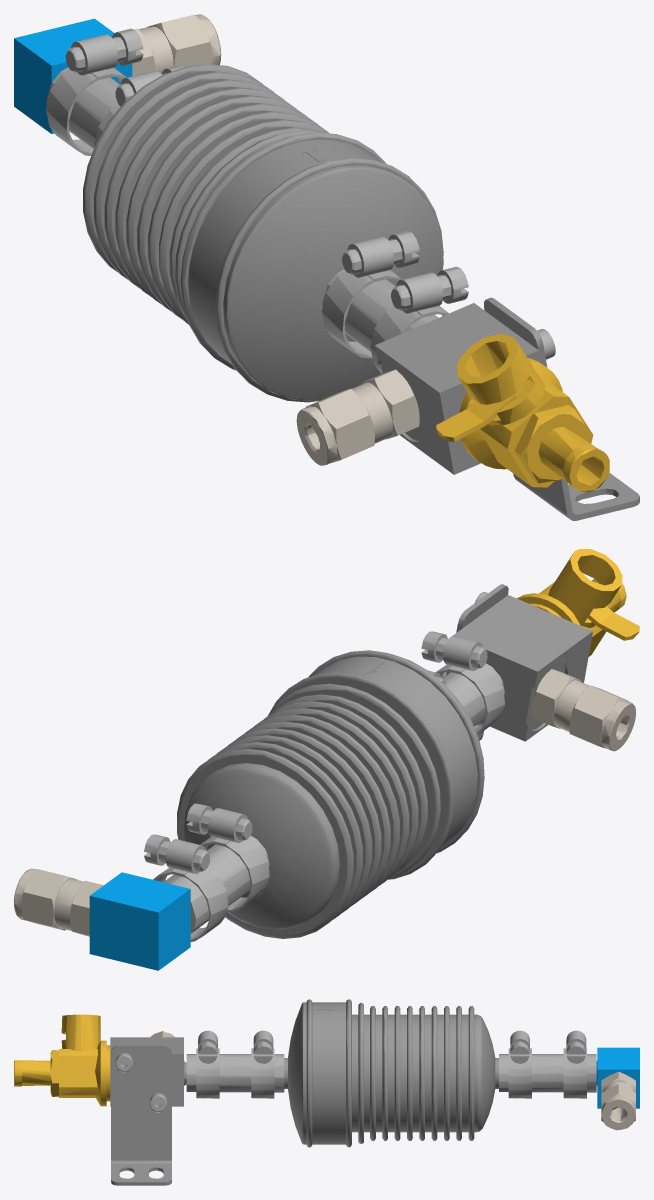
The model's file is oil traction filter assembly.glb.
3 renders of one model, top to bottom at view 1: azimuth 30°, elevation 25°; view 2: azimuth 150°, elevation 25°; view 3: azimuth 270°, elevation 25°, orthographic. The views are drawn at different scales.
Visible parts, largest first — view 1: __PrenotatoPerDuplicare_286, __PrenotatoPerDuplicare_290, __PrenotatoPerDuplicare_284, __PrenotatoPerDuplicare_285, __PrenotatoPerDuplicare_289, __PrenotatoPerDuplicare_281, __PrenotatoPerDuplicare_291, __PrenotatoPerDuplicare_294, __PrenotatoPerDuplicare_296, __PrenotatoPerDuplicare_287, __PrenotatoPerDuplicare_288, __PrenotatoPerDuplicare_295 (+6 smaller); view 2: __PrenotatoPerDuplicare_286, __PrenotatoPerDuplicare_284, __PrenotatoPerDuplicare_289, __PrenotatoPerDuplicare_290, __PrenotatoPerDuplicare_285, __PrenotatoPerDuplicare_291, __PrenotatoPerDuplicare_288, __PrenotatoPerDuplicare_293, __PrenotatoPerDuplicare_296, __PrenotatoPerDuplicare_295, __PrenotatoPerDuplicare_287, __PrenotatoPerDuplicare_568 (+6 smaller); view 3: __PrenotatoPerDuplicare_286, __PrenotatoPerDuplicare_281, __PrenotatoPerDuplicare_290, __PrenotatoPerDuplicare_287, __PrenotatoPerDuplicare_288, __PrenotatoPerDuplicare_291, __PrenotatoPerDuplicare_289, __PrenotatoPerDuplicare_284, __PrenotatoPerDuplicare_295, __PrenotatoPerDuplicare_293, __PrenotatoPerDuplicare_294, __PrenotatoPerDuplicare_296 (+4 smaller).
Boxes of the visible parts, x1,y1,x2,y2 form: __PrenotatoPerDuplicare_286: [83, 64, 443, 402]; __PrenotatoPerDuplicare_290: [436, 334, 609, 492]; __PrenotatoPerDuplicare_284: [374, 303, 540, 474]; __PrenotatoPerDuplicare_285: [296, 369, 419, 465]; __PrenotatoPerDuplicare_289: [14, 18, 132, 133]; __PrenotatoPerDuplicare_281: [484, 297, 639, 520]; __PrenotatoPerDuplicare_291: [132, 14, 221, 76]; __PrenotatoPerDuplicare_294: [321, 270, 402, 358]; __PrenotatoPerDuplicare_296: [46, 68, 126, 155]; __PrenotatoPerDuplicare_287: [322, 269, 438, 351]; __PrenotatoPerDuplicare_288: [46, 67, 119, 148]; __PrenotatoPerDuplicare_295: [370, 306, 448, 373]; __PrenotatoPerDuplicare_286: [177, 650, 484, 938]; __PrenotatoPerDuplicare_284: [446, 595, 592, 741]; __PrenotatoPerDuplicare_289: [89, 872, 190, 970]; __PrenotatoPerDuplicare_290: [517, 549, 639, 656]; __PrenotatoPerDuplicare_285: [531, 669, 635, 751]; __PrenotatoPerDuplicare_291: [14, 868, 103, 936]; __PrenotatoPerDuplicare_288: [163, 835, 269, 933]; __PrenotatoPerDuplicare_293: [200, 836, 269, 912]; __PrenotatoPerDuplicare_296: [153, 866, 228, 941]; __PrenotatoPerDuplicare_295: [436, 664, 504, 734]; __PrenotatoPerDuplicare_287: [442, 663, 504, 726]; __PrenotatoPerDuplicare_568: [186, 803, 252, 840]; __PrenotatoPerDuplicare_286: [284, 999, 498, 1147]; __PrenotatoPerDuplicare_281: [111, 1045, 171, 1185]; __PrenotatoPerDuplicare_290: [14, 1014, 110, 1106]; __PrenotatoPerDuplicare_287: [186, 1054, 284, 1092]; __PrenotatoPerDuplicare_288: [499, 1054, 596, 1092]; __PrenotatoPerDuplicare_291: [601, 1071, 635, 1130]; __PrenotatoPerDuplicare_289: [596, 1047, 639, 1108]; __PrenotatoPerDuplicare_284: [110, 1037, 186, 1106]; __PrenotatoPerDuplicare_295: [196, 1048, 219, 1098]; __PrenotatoPerDuplicare_293: [508, 1048, 531, 1098]; __PrenotatoPerDuplicare_294: [251, 1048, 274, 1098]; __PrenotatoPerDuplicare_296: [563, 1048, 586, 1098].
Bounding box in the file's own units: 0.0808 × 0.0637 × 0.2567.
